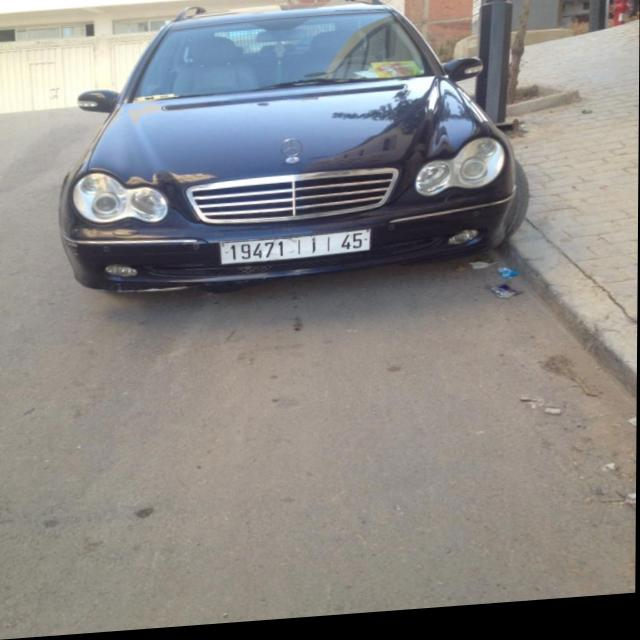License-Plate: (220, 235, 372, 268)
